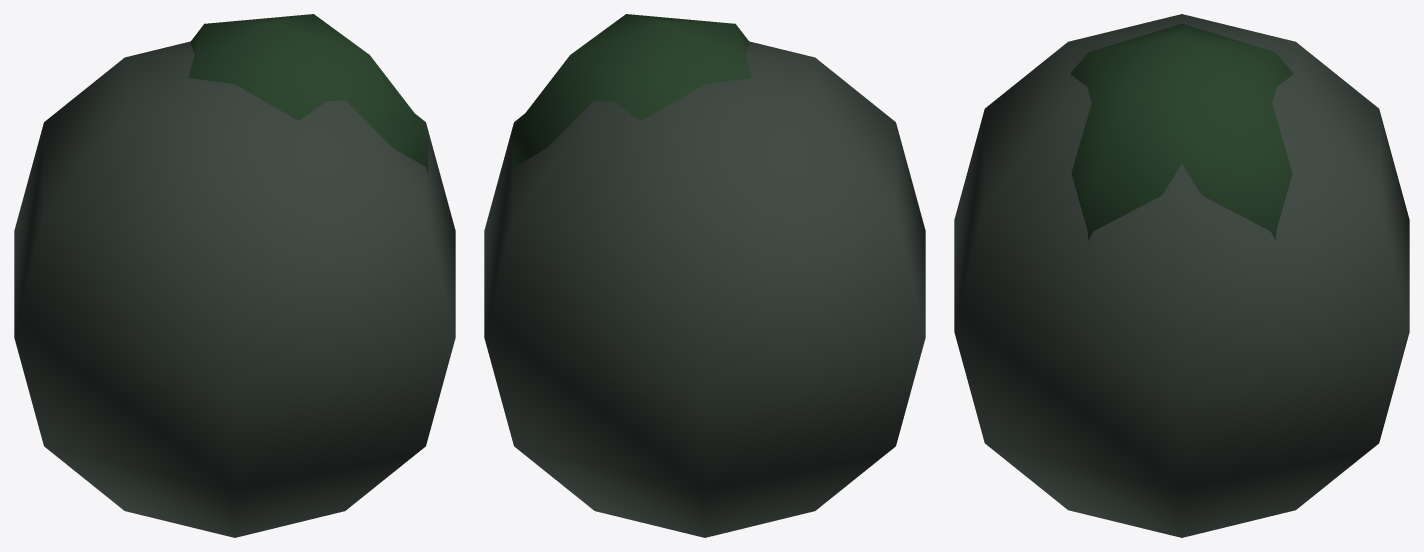
The model's file is mossy_rock.glb.
3 renders of one model, left to right at view 1: azimuth 30°, elevation 25°; view 2: azimuth 150°, elevation 25°; view 3: azimuth 270°, elevation 25°, orthographic. The views are drawn at different scales.
Size of the model in its own units: 1.1 by 1.15 by 0.9526.
